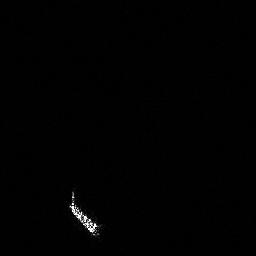ship: (68, 202, 98, 233)
